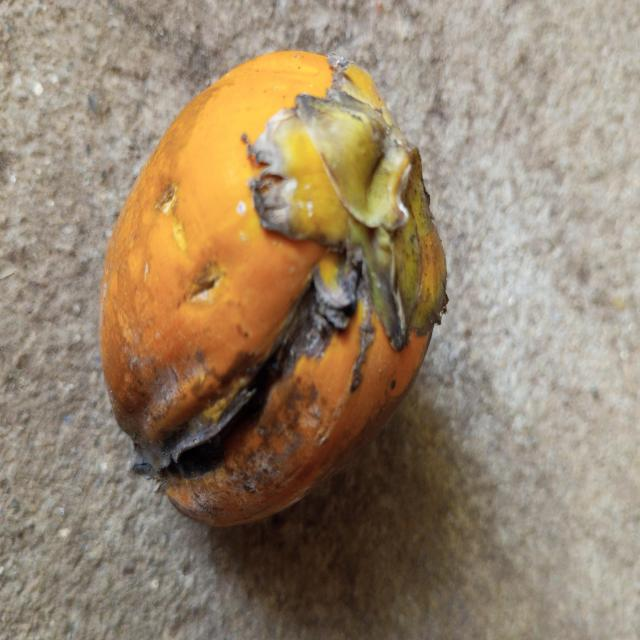damaged: (101, 52, 447, 524)
